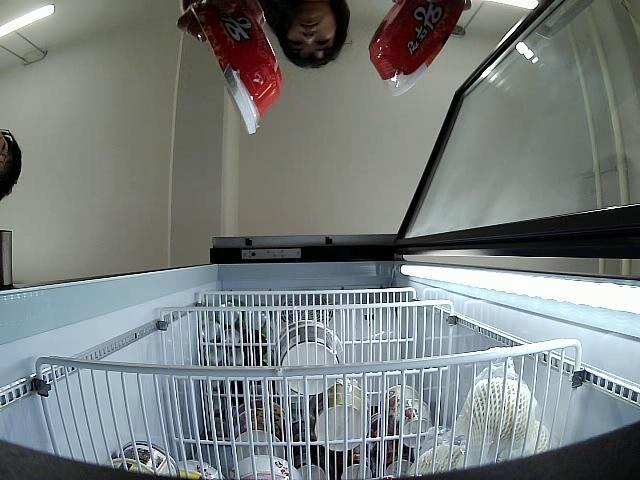10_wangTtukkeong: (190, 1, 284, 136), (368, 0, 465, 96)
